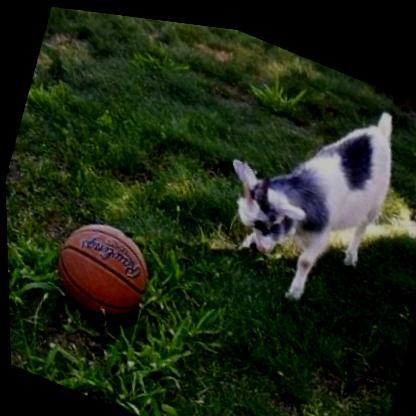basketball: (42, 198, 163, 332)
